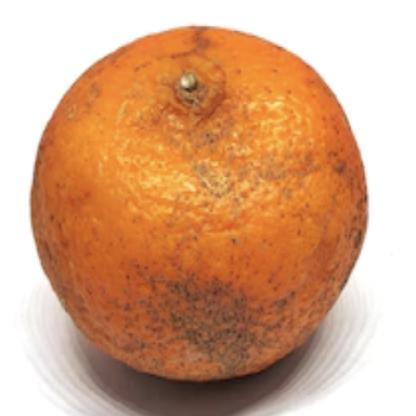rotten: (32, 22, 369, 384)
